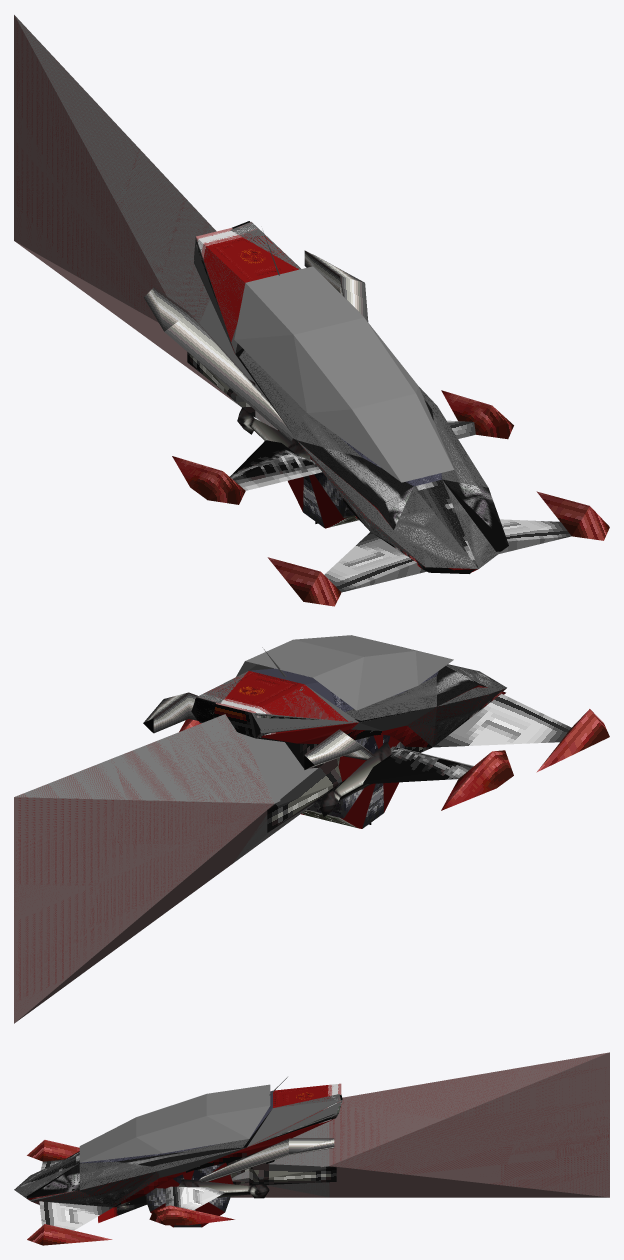
Rendered from v82_tsunami.obj.
The picture shows the model from 3 angles, top to bottom: view 1: azimuth 30°, elevation 25°; view 2: azimuth 150°, elevation 25°; view 3: azimuth 270°, elevation 25°; orthographic projection. The views are drawn at different scales.
Visible parts, largest first — view 1: v82_tsunami_tmd_029, v82_tsunami_tmd_019, v82_tsunami_tmd_000, v82_tsunami_tmd_001, v82_tsunami_tmd_020, v82_tsunami_tmd_002, v82_tsunami_tmd_003, v82_tsunami_tmd_027, v82_tsunami_tmd_021, v82_tsunami_tmd_006, v82_tsunami_tmd_009, v82_tsunami_tmd_010 (+2 smaller); view 2: v82_tsunami_tmd_029, v82_tsunami_tmd_000, v82_tsunami_tmd_019, v82_tsunami_tmd_001, v82_tsunami_tmd_003, v82_tsunami_tmd_020, v82_tsunami_tmd_021, v82_tsunami_tmd_010, v82_tsunami_tmd_006, v82_tsunami_tmd_026, v82_tsunami_tmd_002, v82_tsunami_tmd_009 (+2 smaller); view 3: v82_tsunami_tmd_029, v82_tsunami_tmd_019, v82_tsunami_tmd_000, v82_tsunami_tmd_001, v82_tsunami_tmd_003, v82_tsunami_tmd_022, v82_tsunami_tmd_020, v82_tsunami_tmd_002, v82_tsunami_tmd_010, v82_tsunami_tmd_026, v82_tsunami_tmd_009, v82_tsunami_tmd_027 (+2 smaller).
Part boxes in pixels (x1=…): v82_tsunami_tmd_029: x1=14, y1=15, x2=277, y2=430; v82_tsunami_tmd_019: x1=234, y1=266, x2=454, y2=482; v82_tsunami_tmd_000: x1=187, y1=228, x2=609, y2=606; v82_tsunami_tmd_001: x1=235, y1=350, x2=507, y2=572; v82_tsunami_tmd_020: x1=144, y1=250, x2=368, y2=441; v82_tsunami_tmd_002: x1=297, y1=400, x2=508, y2=568; v82_tsunami_tmd_003: x1=230, y1=390, x2=513, y2=490; v82_tsunami_tmd_027: x1=196, y1=221, x2=508, y2=573; v82_tsunami_tmd_021: x1=194, y1=230, x2=297, y2=352; v82_tsunami_tmd_006: x1=172, y1=456, x2=245, y2=504; v82_tsunami_tmd_009: x1=288, y1=457, x2=358, y2=528; v82_tsunami_tmd_010: x1=278, y1=430, x2=354, y2=527; v82_tsunami_tmd_029: x1=14, y1=714, x2=317, y2=1023; v82_tsunami_tmd_000: x1=199, y1=664, x2=609, y2=832; v82_tsunami_tmd_019: x1=236, y1=635, x2=453, y2=710; v82_tsunami_tmd_001: x1=274, y1=664, x2=506, y2=752; v82_tsunami_tmd_003: x1=179, y1=719, x2=473, y2=785; v82_tsunami_tmd_020: x1=143, y1=692, x2=375, y2=769; v82_tsunami_tmd_021: x1=195, y1=671, x2=357, y2=735; v82_tsunami_tmd_010: x1=301, y1=734, x2=404, y2=828; v82_tsunami_tmd_006: x1=441, y1=750, x2=513, y2=810; v82_tsunami_tmd_026: x1=319, y1=741, x2=391, y2=816; v82_tsunami_tmd_002: x1=287, y1=666, x2=505, y2=744; v82_tsunami_tmd_009: x1=305, y1=734, x2=399, y2=828; v82_tsunami_tmd_029: x1=230, y1=1052, x2=609, y2=1197; v82_tsunami_tmd_019: x1=79, y1=1084, x2=270, y2=1162; v82_tsunami_tmd_000: x1=16, y1=1083, x2=341, y2=1245; v82_tsunami_tmd_001: x1=14, y1=1137, x2=250, y2=1207; v82_tsunami_tmd_003: x1=149, y1=1186, x2=234, y2=1225; v82_tsunami_tmd_022: x1=247, y1=1094, x2=340, y2=1146; v82_tsunami_tmd_020: x1=199, y1=1138, x2=334, y2=1182; v82_tsunami_tmd_002: x1=27, y1=1147, x2=241, y2=1206; v82_tsunami_tmd_010: x1=145, y1=1163, x2=233, y2=1227; v82_tsunami_tmd_026: x1=178, y1=1179, x2=269, y2=1198; v82_tsunami_tmd_009: x1=150, y1=1163, x2=232, y2=1227; v82_tsunami_tmd_027: x1=26, y1=1095, x2=342, y2=1198.
Bounding box in the file's own units: 1.47 × 1.2 × 3.87.
55 materials, 40 textured.
